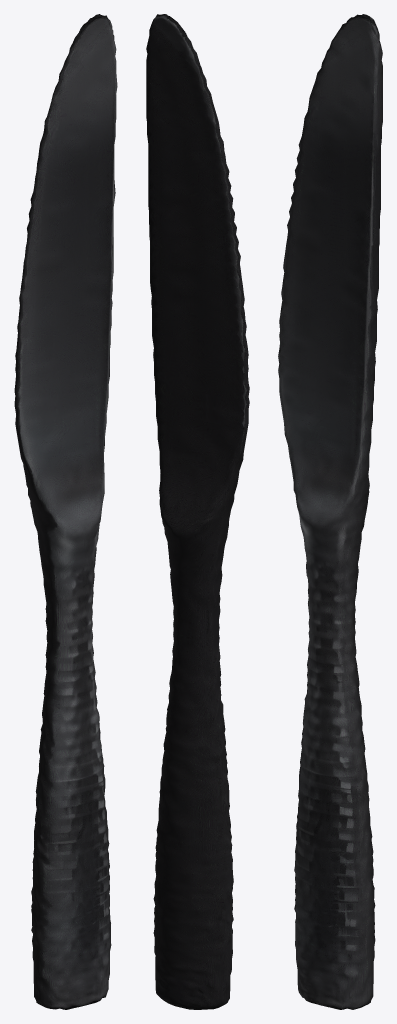
The model's file is black_Table_Knife_0308230048_texture.glb.
3 views of the same model, side by side, from view 1: azimuth 30°, elevation 25°; view 2: azimuth 150°, elevation 25°; view 3: azimuth 330°, elevation 25° (orthographic).
Visible parts, largest first — view 1: Mesh_0.001; view 2: Mesh_0.001; view 3: Mesh_0.001.
Boxes of the visible parts, <box> form: Mesh_0.001: <box>14,14,117,1009</box>; Mesh_0.001: <box>146,14,249,1009</box>; Mesh_0.001: <box>278,14,382,1009</box>.
Bounding box in the file's own units: 0.8542 × 8 × 0.4764.
1 material, 1 textured.
